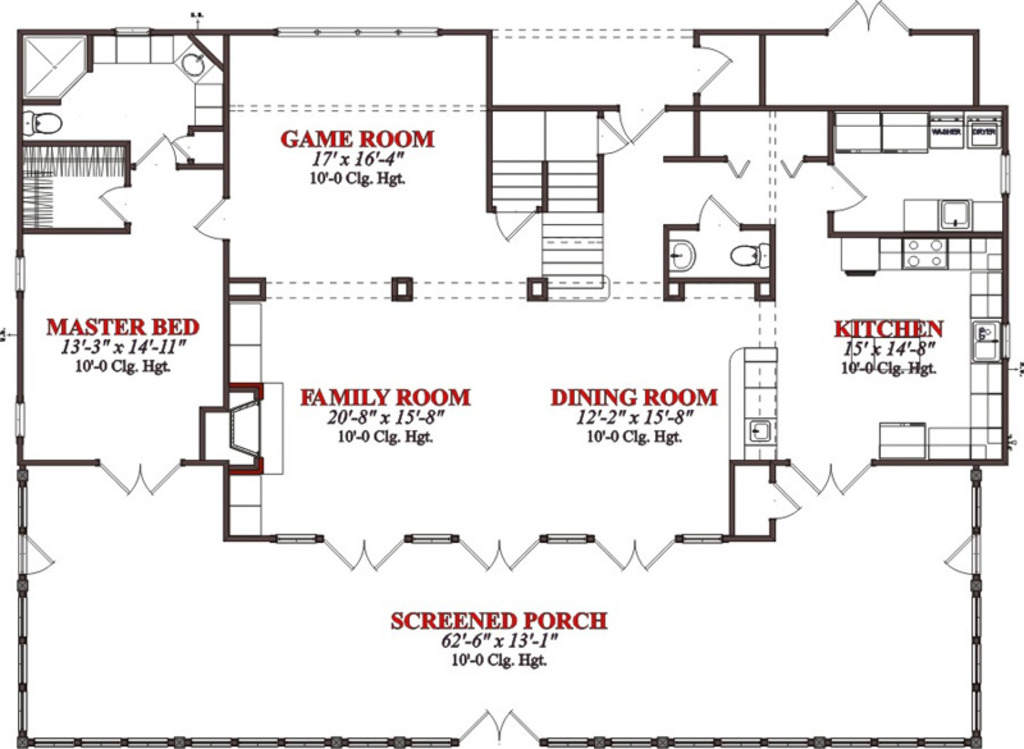door: (788, 453, 872, 495), (320, 534, 405, 573), (588, 534, 675, 572), (450, 534, 539, 571), (97, 459, 182, 496), (827, 1, 911, 37), (460, 704, 535, 744), (693, 41, 733, 93), (827, 162, 866, 214), (128, 131, 178, 171), (620, 102, 666, 143), (22, 535, 63, 580), (196, 198, 231, 242), (697, 194, 742, 228), (943, 537, 979, 578), (767, 484, 804, 523), (97, 183, 132, 222)
large_sink: (720, 239, 772, 276), (22, 107, 67, 143)
small_sink: (175, 41, 212, 87), (662, 233, 696, 280)
stairs: (488, 109, 605, 215), (537, 214, 608, 287)
twin_sink: (973, 319, 1002, 361)
windows: (272, 24, 443, 41), (12, 253, 29, 295), (15, 400, 26, 439)
